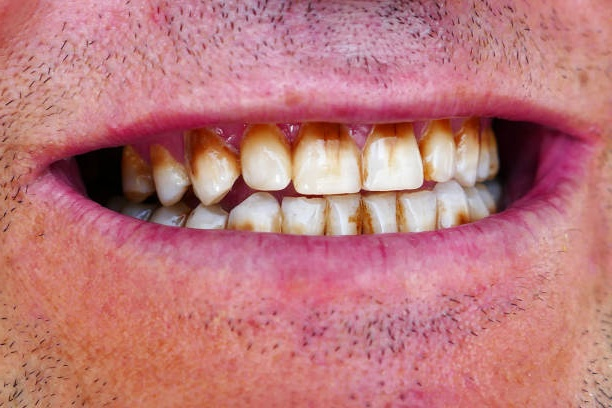Tooth Discoloration: (180, 109, 500, 187), (122, 141, 187, 190), (386, 188, 413, 234), (342, 201, 376, 236), (268, 205, 308, 234), (211, 218, 256, 232)
